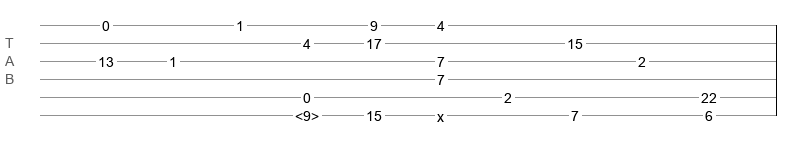0: (102, 18, 110, 28), (303, 90, 311, 100)
1: (169, 54, 177, 64), (236, 18, 244, 28)
13: (98, 54, 114, 64)
15: (366, 108, 382, 118), (567, 36, 583, 46)
17: (366, 36, 382, 46)
2: (504, 90, 512, 100), (638, 54, 646, 64)
22: (701, 90, 717, 100)
4: (303, 36, 311, 46), (437, 18, 445, 28)
6: (705, 108, 713, 118)
7: (437, 54, 445, 64), (437, 72, 445, 82), (571, 108, 579, 118)
9: (370, 18, 378, 28)
harmonic: (295, 108, 319, 118)
x: (437, 109, 444, 117)
